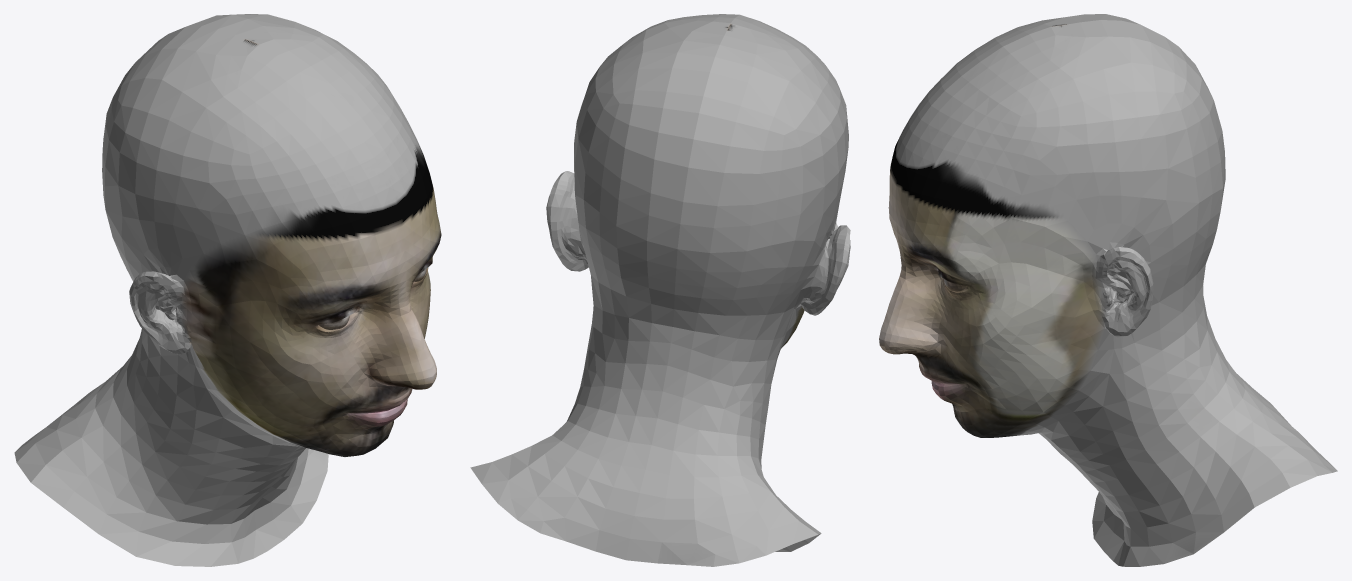
Rendered from ezgif-frame-034.obj.
3 views of the same model, side by side, from view 1: azimuth 30°, elevation 25°; view 2: azimuth 150°, elevation 25°; view 3: azimuth 270°, elevation 25° (orthographic). The views are drawn at different scales.
Bounding box in the file's own units: 0.2013 × 0.3269 × 0.2636.
1 material, 1 textured.
